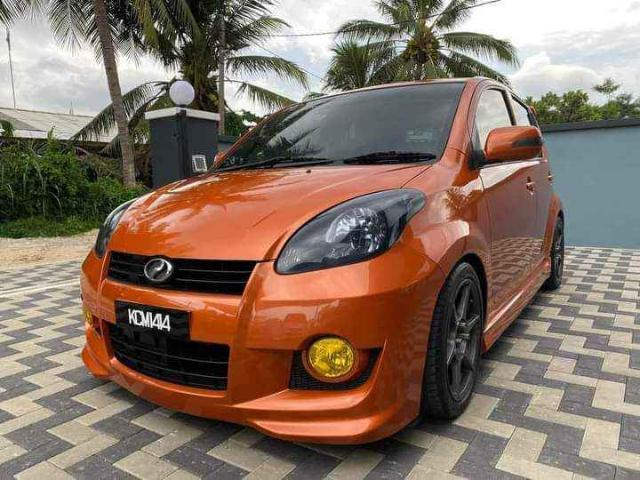License_Plate: (117, 305, 181, 338)
car: (75, 72, 571, 447)
